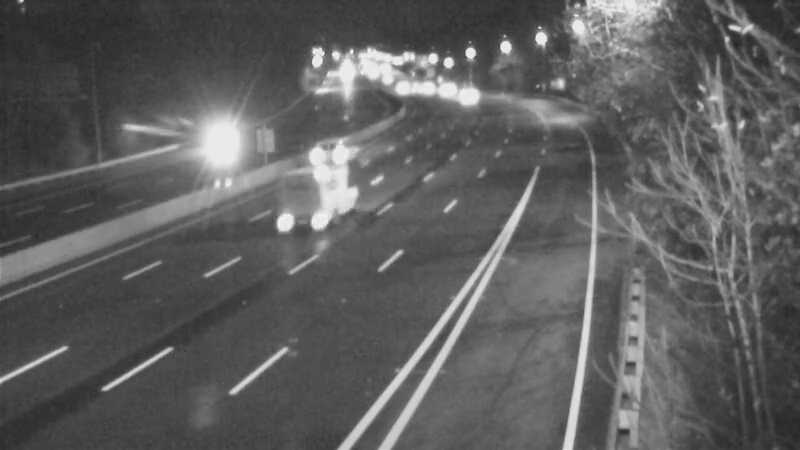vehicle: (266, 164, 346, 244), (404, 61, 454, 111), (426, 67, 476, 117), (443, 69, 493, 119), (306, 122, 356, 172), (186, 123, 236, 173)
